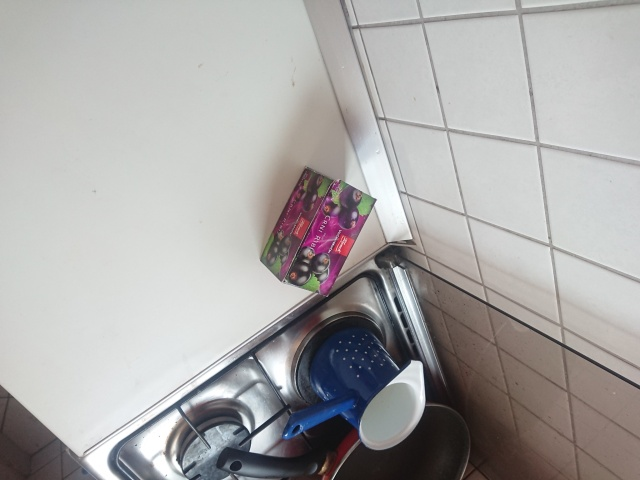Franck Black Currant Tea 60g: (258, 164, 379, 299)
